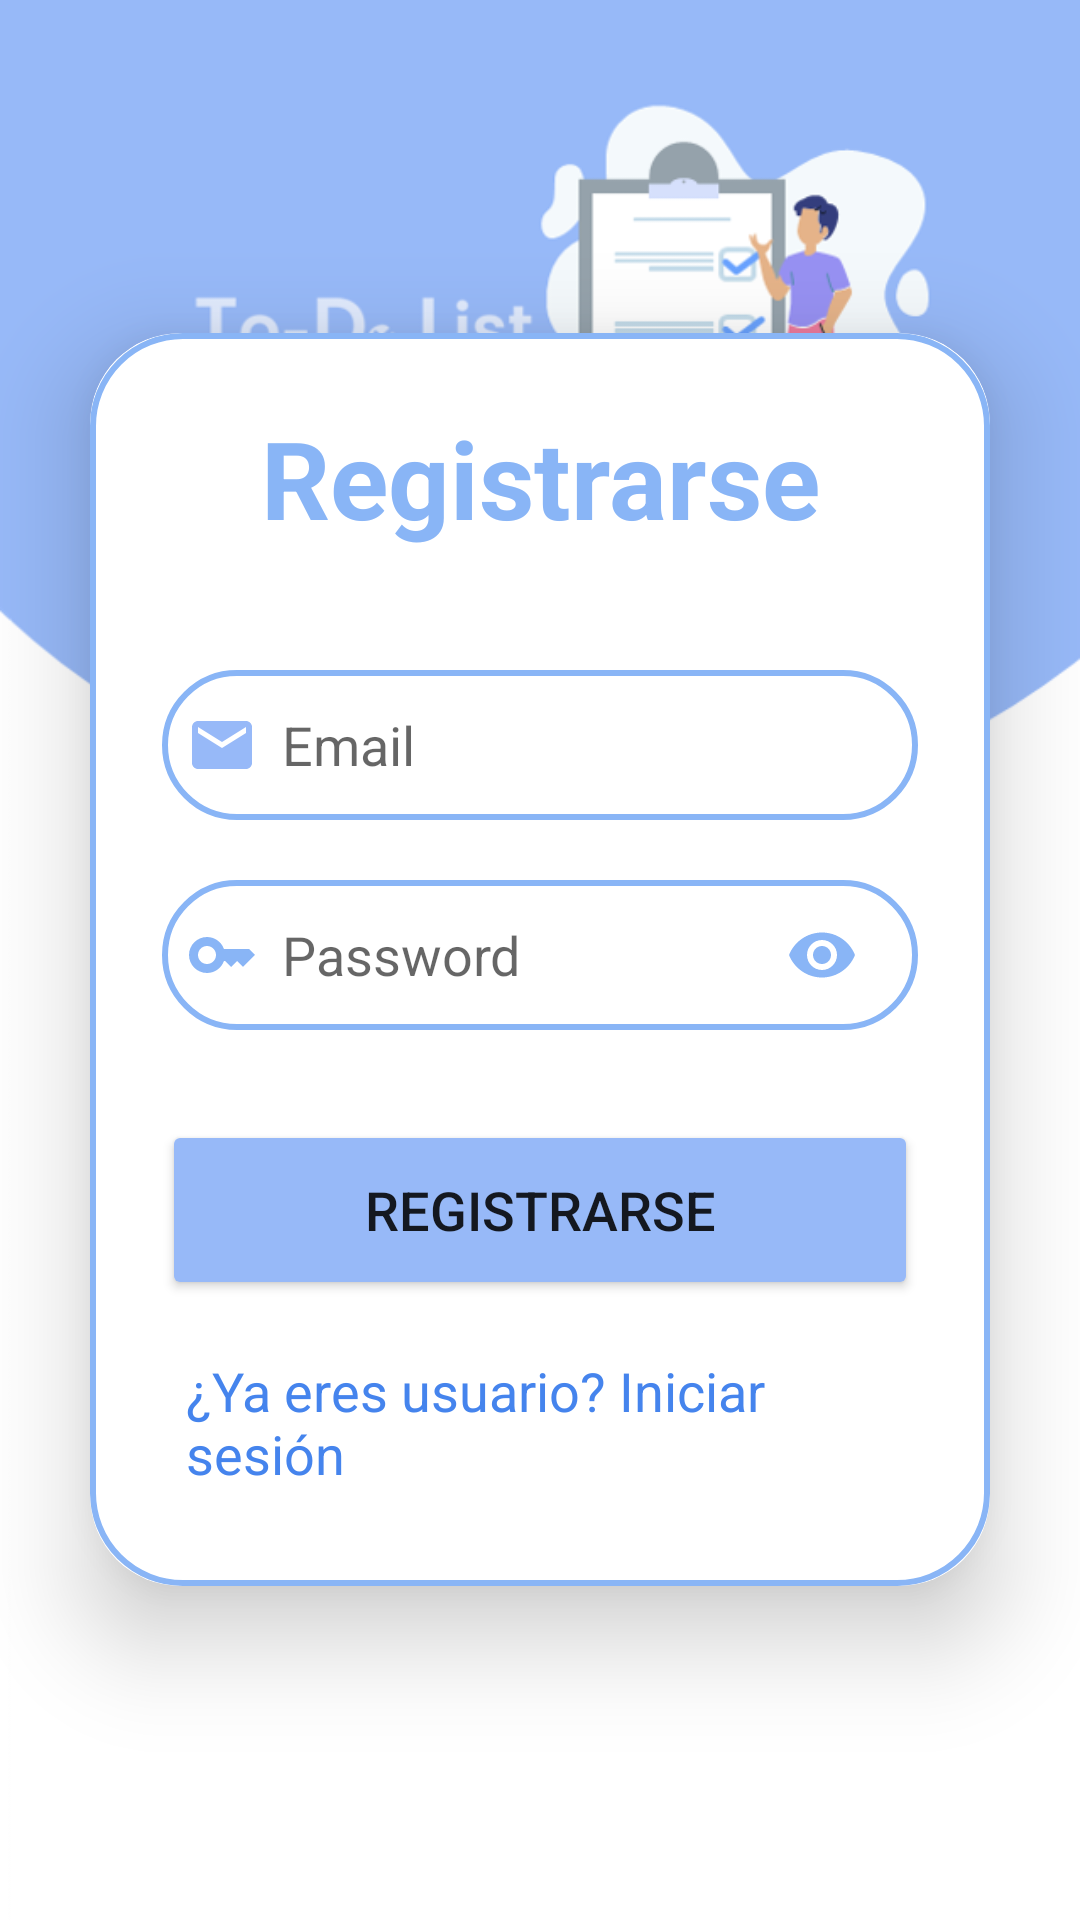

Screen size 1080 x 1920. Icon name, then its box in pixels as (left=x1, top=y1, right=x2, bottom=y2):
eye: (left=789, top=932, right=855, bottom=978)
